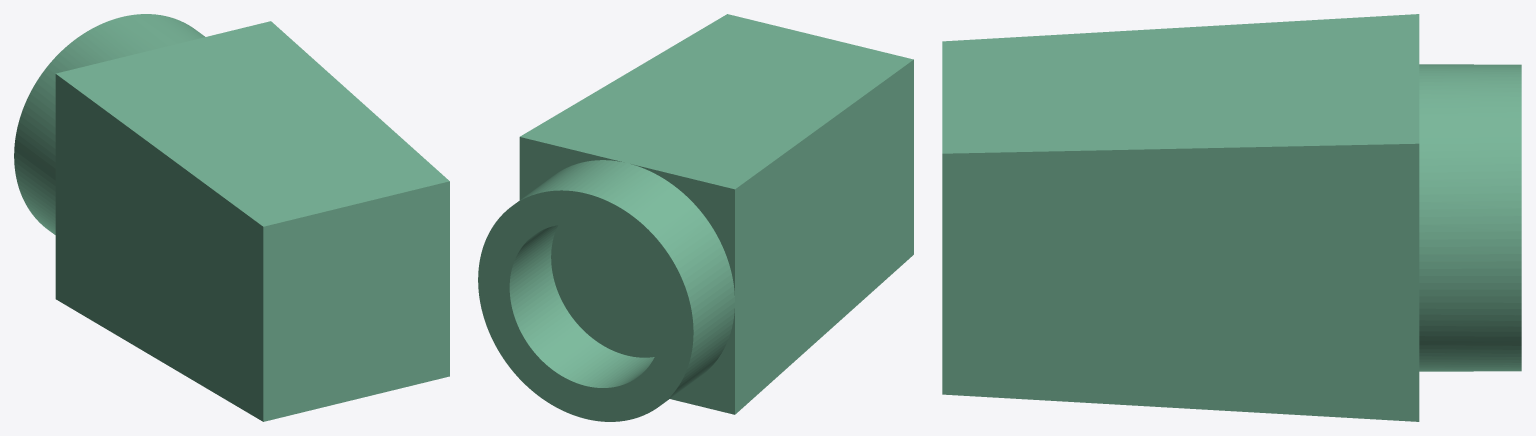
3 renders of one model, left to right at view 1: azimuth 30°, elevation 25°; view 2: azimuth 150°, elevation 25°; view 3: azimuth 270°, elevation 25°, orthographic. The views are drawn at different scales.
Visible parts, largest first — view 1: node; view 2: node; view 3: node.
Part boxes in pixels (left/top/right/bottom): node: left=14, top=14, right=449, bottom=421; node: left=478, top=14, right=913, bottom=421; node: left=942, top=14, right=1521, bottom=421.
Size of the model in its own units: 0.0643 by 0.0643 by 0.1214.
